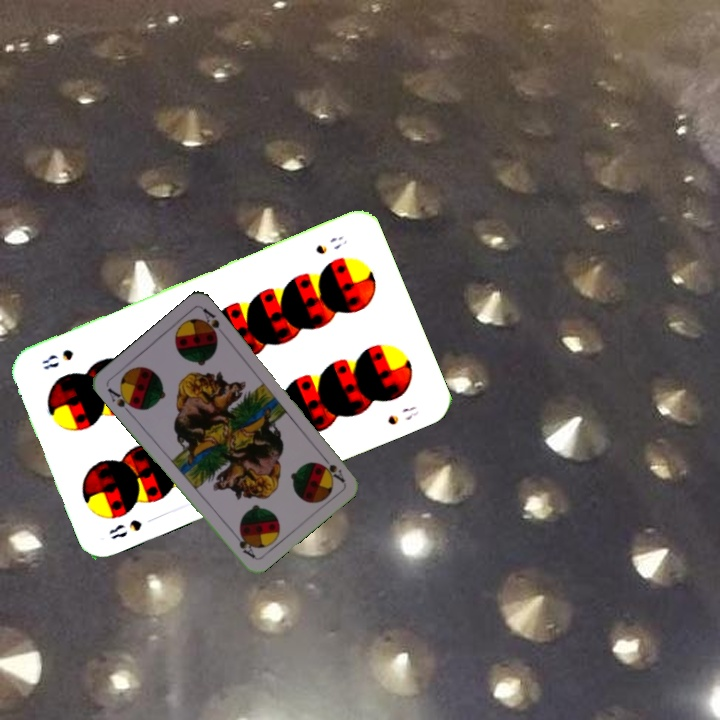S8: (104, 515, 145, 542), (311, 232, 350, 257)
SA: (103, 384, 139, 417), (318, 450, 348, 485)
